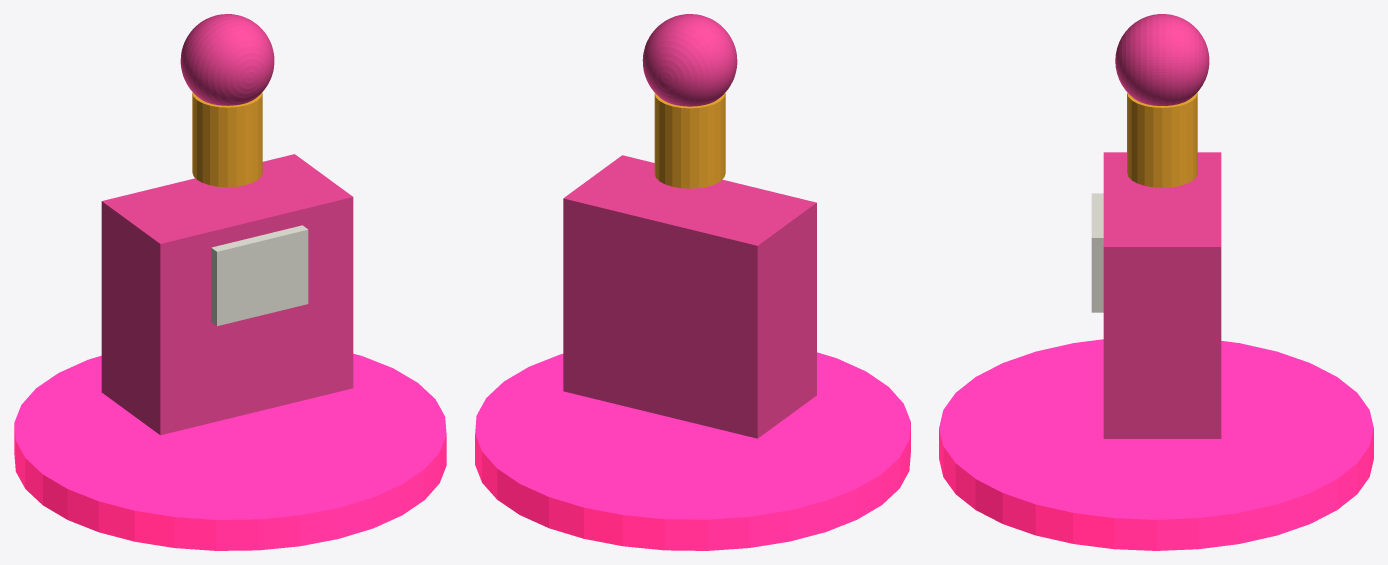
Rendered from beauty_perfume.dae.
3 views of the same model, side by side, from view 1: azimuth 30°, elevation 25°; view 2: azimuth 150°, elevation 25°; view 3: azimuth 270°, elevation 25° (orthographic).
Visible parts, largest first — view 1: 03_03_Popular_Beauty_Perfume_ROOT_base, 03_03_Popular_Beauty_Perfume_part_01, 03_03_Popular_Beauty_Perfume_part_04, 03_03_Popular_Beauty_Perfume_part_03, 03_03_Popular_Beauty_Perfume_part_02; view 2: 03_03_Popular_Beauty_Perfume_part_01, 03_03_Popular_Beauty_Perfume_ROOT_base, 03_03_Popular_Beauty_Perfume_part_03, 03_03_Popular_Beauty_Perfume_part_02; view 3: 03_03_Popular_Beauty_Perfume_ROOT_base, 03_03_Popular_Beauty_Perfume_part_01, 03_03_Popular_Beauty_Perfume_part_03, 03_03_Popular_Beauty_Perfume_part_02, 03_03_Popular_Beauty_Perfume_part_04.
Boxes of the visible parts, left/top/right/bottom form: 03_03_Popular_Beauty_Perfume_ROOT_base: left=14, top=353, right=446, bottom=550; 03_03_Popular_Beauty_Perfume_part_01: left=101, top=154, right=353, bottom=435; 03_03_Popular_Beauty_Perfume_part_04: left=211, top=225, right=308, bottom=326; 03_03_Popular_Beauty_Perfume_part_03: left=180, top=14, right=274, bottom=105; 03_03_Popular_Beauty_Perfume_part_02: left=192, top=92, right=262, bottom=187; 03_03_Popular_Beauty_Perfume_part_01: left=563, top=155, right=816, bottom=438; 03_03_Popular_Beauty_Perfume_ROOT_base: left=475, top=352, right=910, bottom=550; 03_03_Popular_Beauty_Perfume_part_03: left=642, top=14, right=737, bottom=106; 03_03_Popular_Beauty_Perfume_part_02: left=654, top=93, right=725, bottom=188; 03_03_Popular_Beauty_Perfume_ROOT_base: left=939, top=339, right=1373, bottom=550; 03_03_Popular_Beauty_Perfume_part_01: left=1103, top=152, right=1221, bottom=438; 03_03_Popular_Beauty_Perfume_part_03: left=1115, top=14, right=1209, bottom=105; 03_03_Popular_Beauty_Perfume_part_02: left=1127, top=92, right=1197, bottom=187; 03_03_Popular_Beauty_Perfume_part_04: left=1091, top=193, right=1103, bottom=312.
Bounding box in the file's own units: 0.76 × 0.85 × 0.76.
